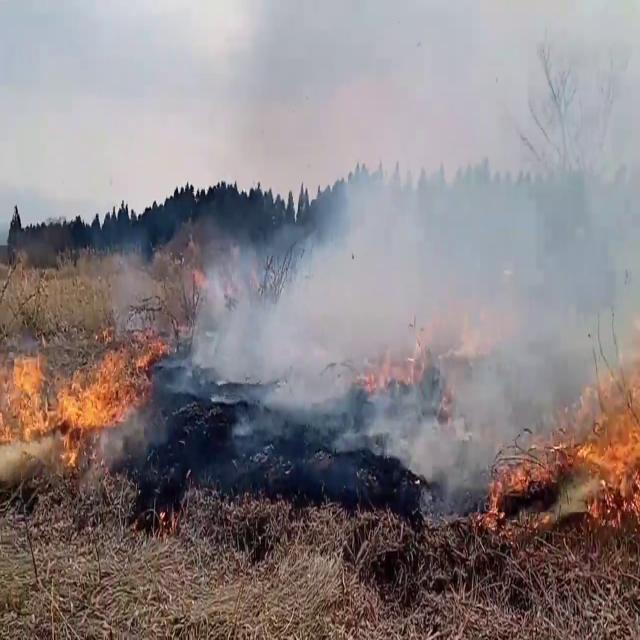Fire: (0, 338, 152, 458), (555, 332, 640, 513)
Smoke: (190, 54, 638, 453)
